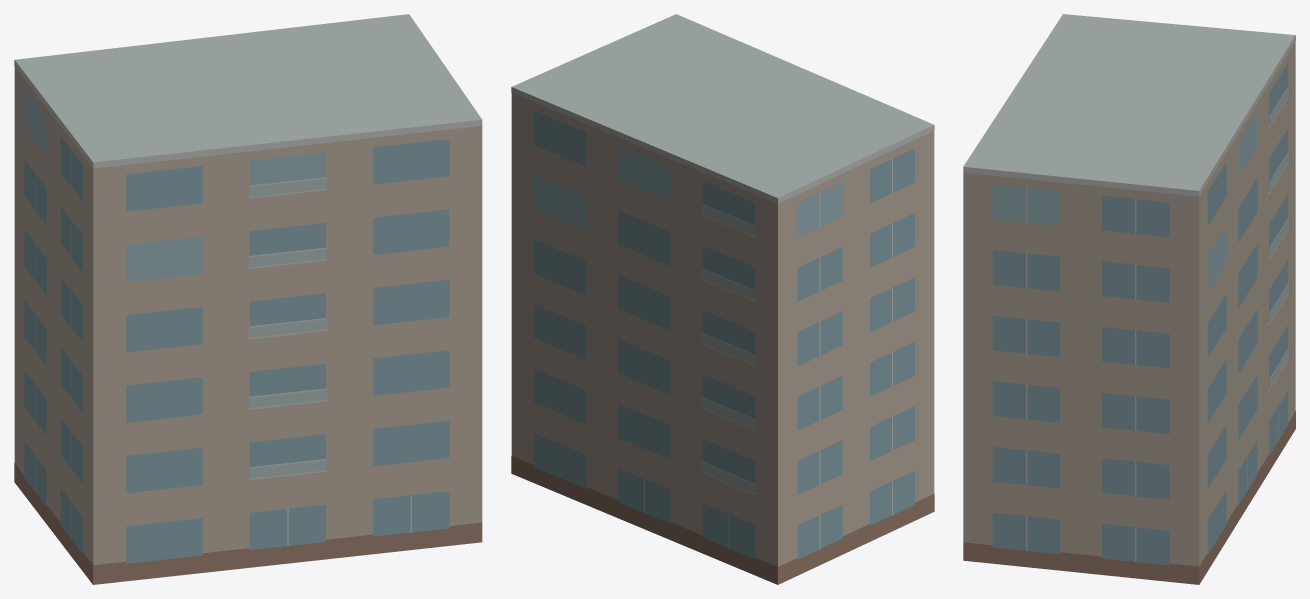
The model's file is survey-upis-32869363.glb.
The picture shows the model from 3 angles, left to right: view 1: azimuth 30°, elevation 25°; view 2: azimuth 150°, elevation 25°; view 3: azimuth 270°, elevation 25°; orthographic projection. The views are drawn at different scales.
Parts seen in each view (by area): view 1: survey-upis-32869363.tmp; view 2: survey-upis-32869363.tmp; view 3: survey-upis-32869363.tmp.
Part boxes in pixels (x1,y1,x2,y2): survey-upis-32869363.tmp: (14,14,482,584); survey-upis-32869363.tmp: (511,14,934,584); survey-upis-32869363.tmp: (963,14,1295,584).
Bounding box in the file's own units: 16.01 × 16.6 × 12.71.
